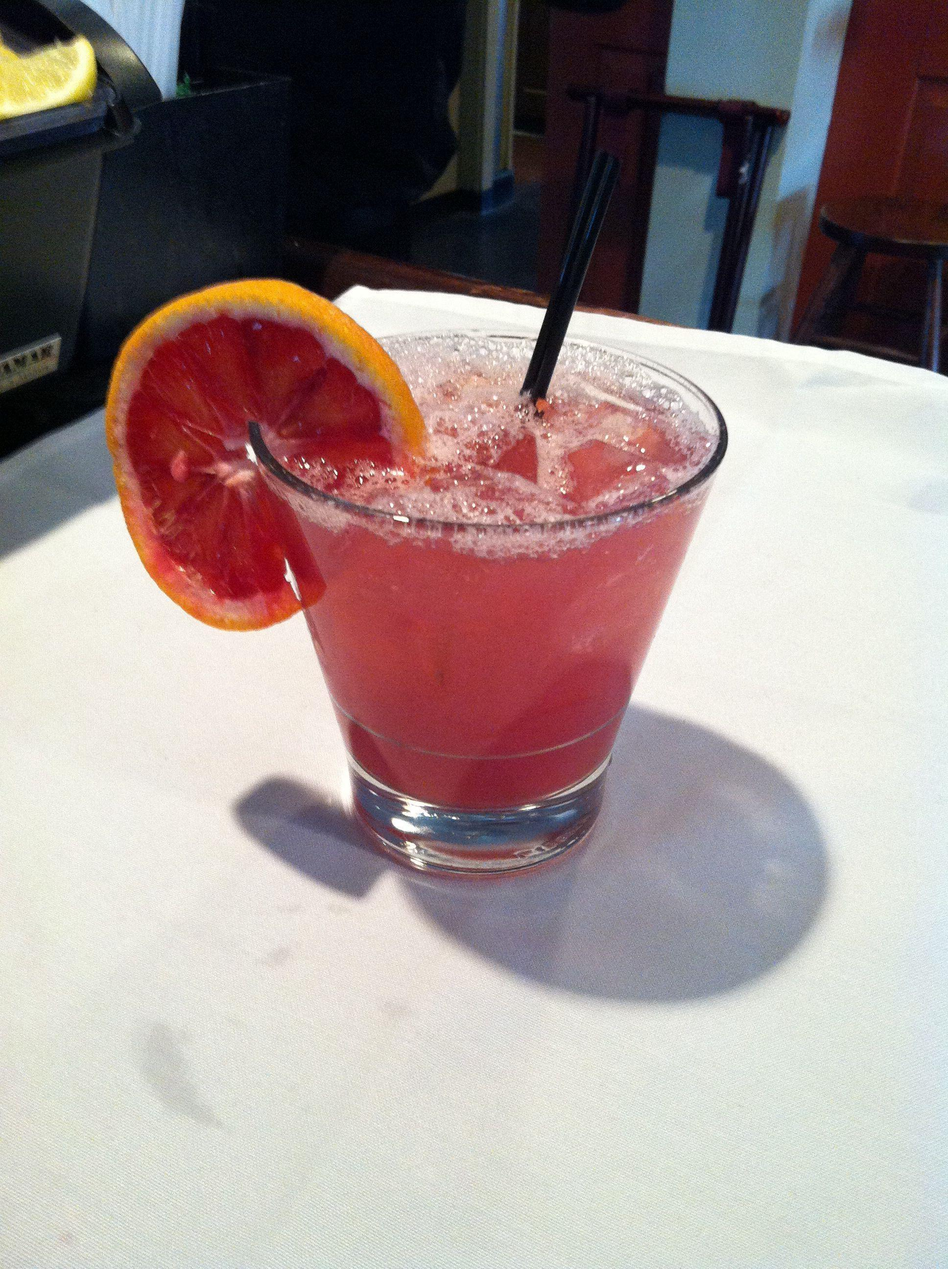glass-normal: (247, 327, 730, 879)
